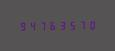five: (67, 19, 76, 30)
four: (27, 20, 36, 31)
nine: (17, 20, 26, 31)
seven: (37, 20, 46, 31), (77, 19, 86, 30)
six: (47, 20, 56, 31)
three: (57, 20, 66, 30)
zero: (87, 19, 96, 30)
